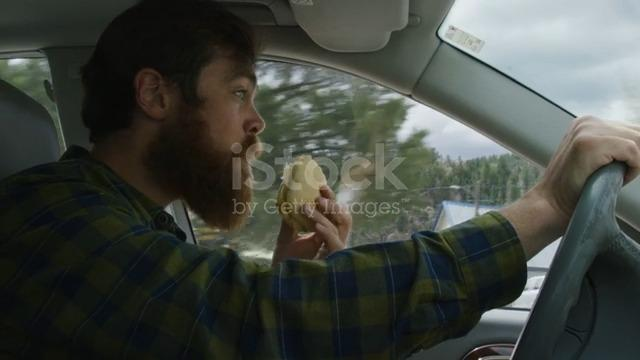Eating: (197, 109, 360, 247)
